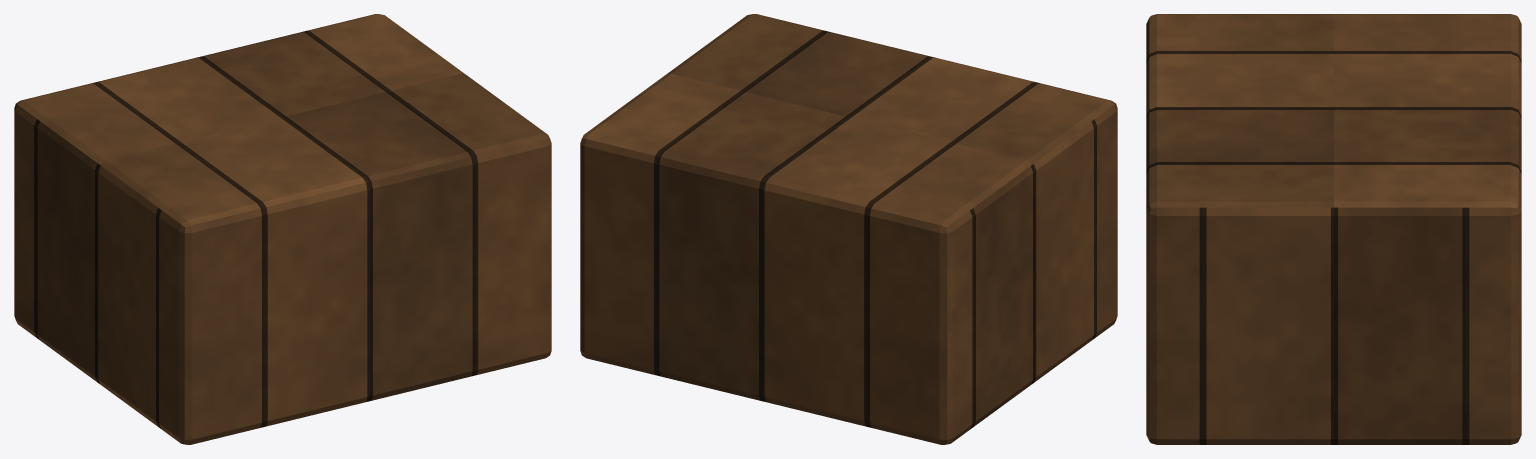
File: Street_Crate0_0.obj
The picture shows the model from 3 angles, left to right: view 1: azimuth 30°, elevation 25°; view 2: azimuth 150°, elevation 25°; view 3: azimuth 270°, elevation 25°; orthographic projection. The views are drawn at different scales.
Bounding box in the file's own units: 0.52 × 0.3 × 0.42.
Materials: 1 (1 with a texture image).
